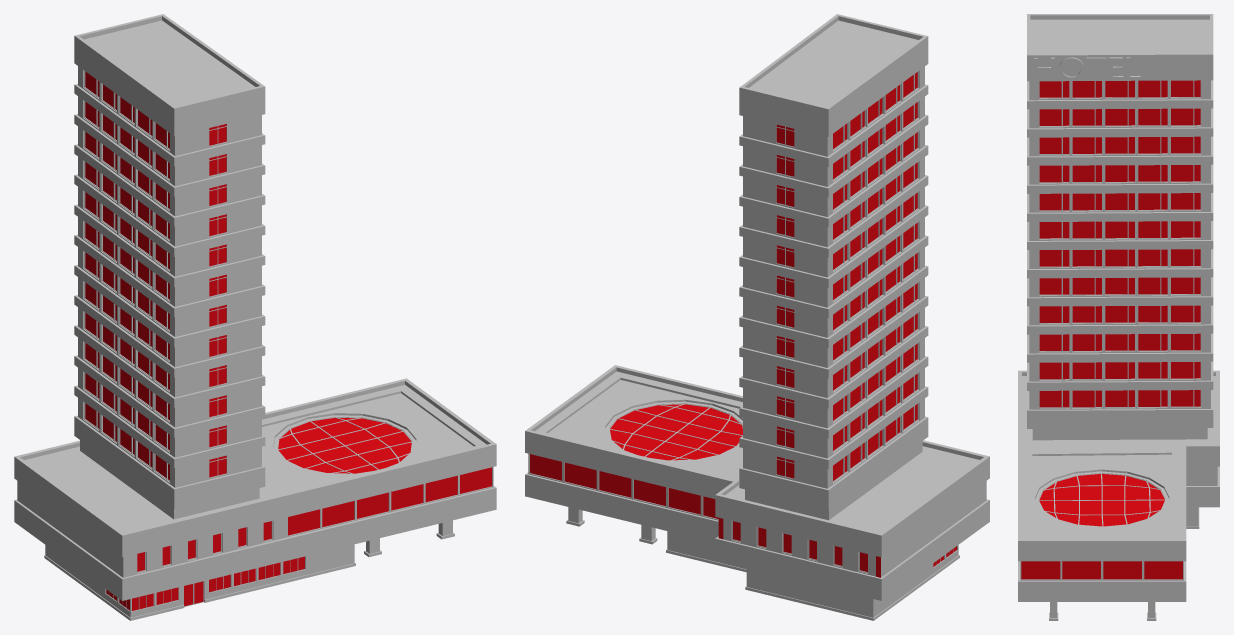
Rendered from SM_infrastructure_buildings_03.gltf.
3 views of the same model, side by side, from view 1: azimuth 30°, elevation 25°; view 2: azimuth 150°, elevation 25°; view 3: azimuth 270°, elevation 25° (orthographic). The views are drawn at different scales.
Parts seen in each view (by area): view 1: infrastructure_buildings_03; view 2: infrastructure_buildings_03; view 3: infrastructure_buildings_03.
Part boxes in pixels (box(x1,y1,x2,y2)): infrastructure_buildings_03: box(14, 14, 496, 620); infrastructure_buildings_03: box(525, 14, 989, 620); infrastructure_buildings_03: box(1018, 14, 1219, 620).
Size of the model in its own units: 36 by 46.63 by 18.
